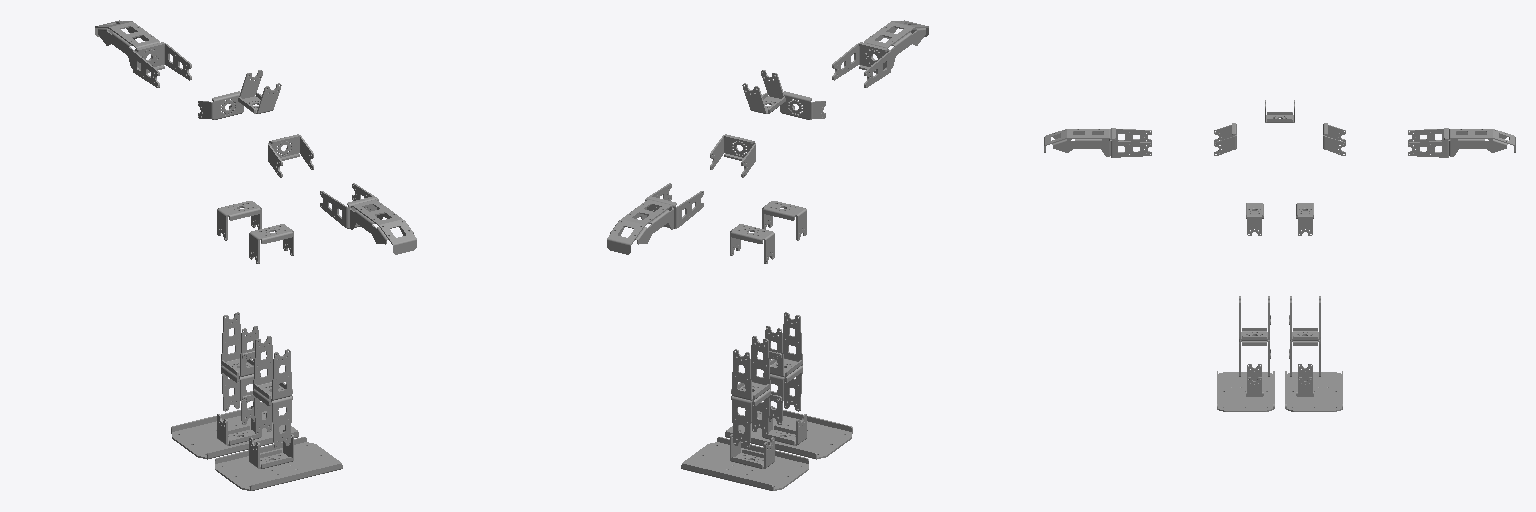
--- Render facts (derived) ---
3 views of the same robot in one strip: view 1: azimuth 30°, elevation 25°; view 2: azimuth 150°, elevation 25°; view 3: azimuth 270°, elevation 25° (orthographic).
Model body_link with 21 links and 20 joints (20 revolute), rooted at body_link, posed all joints at 0.
Links seen in each view (by area): view 1: r_ank_roll_link, r_knee_link, l_ank_roll_link, r_el_link, l_el_link, l_knee_link, head_pan_link, r_sho_pitch_link, r_hip_yaw_link, l_hip_yaw_link, l_sho_pitch_link; view 2: l_ank_roll_link, l_knee_link, r_ank_roll_link, l_el_link, r_el_link, r_knee_link, head_pan_link, l_sho_pitch_link, l_hip_yaw_link, r_hip_yaw_link, r_sho_pitch_link; view 3: l_ank_roll_link, r_ank_roll_link, l_el_link, r_el_link, l_knee_link, r_knee_link, l_sho_pitch_link, r_sho_pitch_link.
Link boxes in pixels (bbox=[...]): r_ank_roll_link: bbox=[215, 429, 342, 490]; r_knee_link: bbox=[253, 336, 292, 448]; l_ank_roll_link: bbox=[171, 406, 298, 459]; r_el_link: bbox=[320, 183, 416, 254]; l_el_link: bbox=[95, 20, 191, 87]; l_knee_link: bbox=[221, 312, 260, 424]; head_pan_link: bbox=[238, 70, 281, 113]; r_sho_pitch_link: bbox=[268, 134, 313, 177]; r_hip_yaw_link: bbox=[249, 224, 293, 263]; l_hip_yaw_link: bbox=[217, 201, 261, 240]; l_sho_pitch_link: bbox=[198, 91, 243, 119]; l_ank_roll_link: bbox=[681, 429, 808, 490]; l_knee_link: bbox=[731, 336, 770, 448]; r_ank_roll_link: bbox=[725, 406, 852, 459]; l_el_link: bbox=[607, 183, 703, 254]; r_el_link: bbox=[832, 20, 928, 87]; r_knee_link: bbox=[763, 312, 802, 424]; head_pan_link: bbox=[742, 70, 785, 113]; l_sho_pitch_link: bbox=[710, 134, 755, 177]; l_hip_yaw_link: bbox=[730, 224, 774, 263]; r_hip_yaw_link: bbox=[762, 201, 806, 240]; r_sho_pitch_link: bbox=[780, 91, 825, 119]; l_ank_roll_link: bbox=[1285, 364, 1342, 411]; r_ank_roll_link: bbox=[1217, 364, 1274, 411]; l_el_link: bbox=[1408, 128, 1515, 157]; r_el_link: bbox=[1044, 128, 1151, 157]; l_knee_link: bbox=[1289, 296, 1320, 376]; r_knee_link: bbox=[1239, 296, 1270, 376]; l_sho_pitch_link: bbox=[1323, 123, 1345, 155]; r_sho_pitch_link: bbox=[1214, 123, 1236, 155].
Bounding box of the posed robot: 0.127 × 0.6508 × 0.4467 m (x, y, z).
11 mesh visuals loaded from 21 distinct referenced files (11 Collada DAE); not drawn: 10 (reference not matched to a file when rendering).

The robot description file, URDF, robot "body_link":
<?xml version="1.0"?>
<robot name="body_link"
       xmlns:xi="http://www.w3.org/2001/XInclude">
  <link name="body_link">
    <visual>
      <origin xyz="0 0 0" rpy="0 -0 0"/>
      <geometry>
        <mesh filename="package://hrpsys_ros_bridge_robotis/models/OP3_meshes/body_link_mesh.dae" scale="1 1 1" />
      </geometry>
    </visual>
    <collision>
      <origin xyz="0 0 0" rpy="0 -0 0"/>
      <geometry>
        <mesh filename="package://hrpsys_ros_bridge_robotis/models/OP3_meshes/body_link_mesh.dae" scale="1 1 1" />
      </geometry>
    </collision>
    <inertial>
      <mass value="1.34928" />
      <origin xyz="-0.01501 0.00013 0.06582" rpy="0 -0 0"/>
      <inertia ixx="0.00340499" ixy="5.72e-06" ixz="-4.256e-05" iyy="0.00296939" iyz="-5.9e-07" izz="0.00317331"/>
    </inertial>
  </link>
  <gazebo reference="body_link">
    <mu1>0.9</mu1>
    <mu2>0.9</mu2>
  </gazebo>
  <link name="head_pan_link">
    <visual>
      <origin xyz="-0.001 0 0.1365" rpy="0 -0 0"/>
      <geometry>
        <mesh filename="package://hrpsys_ros_bridge_robotis/models/OP3_meshes/head_pan_link_mesh.dae" scale="1 1 1" />
      </geometry>
    </visual>
    <collision>
      <origin xyz="-0.001 0 0.1365" rpy="0 -0 0"/>
      <geometry>
        <mesh filename="package://hrpsys_ros_bridge_robotis/models/OP3_meshes/head_pan_link_mesh.dae" scale="1 1 1" />
      </geometry>
    </collision>
    <inertial>
      <mass value="0.01176" />
      <origin xyz="0.00233 0 0.00823" rpy="0 -0 0"/>
      <inertia ixx="3.97e-06" ixy="-2.48613e-22" ixz="-3.1e-07" iyy="1.65e-06" iyz="-3.95602e-22" izz="3.87e-06"/>
    </inertial>
  </link>
  <gazebo reference="head_pan_link">
    <mu1>0.9</mu1>
    <mu2>0.9</mu2>
  </gazebo>
  <link name="head_tilt_link">
    <visual>
      <origin xyz="0.01 0.019 0.0285" rpy="0 -0 0"/>
      <geometry>
        <mesh filename="package://hrpsys_ros_bridge_robotis/models/OP3_meshes/head_tilt_link_mesh.dae" scale="1 1 1" />
      </geometry>
    </visual>
    <collision>
      <origin xyz="0.01 0.019 0.0285" rpy="0 -0 0"/>
      <geometry>
        <mesh filename="package://hrpsys_ros_bridge_robotis/models/OP3_meshes/head_tilt_link_mesh.dae" scale="1 1 1" />
      </geometry>
    </collision>
    <inertial>
      <mass value="0.13631" />
      <origin xyz="0.0023 -0.01863 0.0277" rpy="0 -0 0"/>
      <inertia ixx="0.00010612" ixy="1.1e-07" ixz="-9.1e-06" iyy="8.721e-05" iyz="8.4e-07" izz="4.529e-05"/>
    </inertial>
  </link>
  <gazebo reference="head_tilt_link">
    <mu1>0.9</mu1>
    <mu2>0.9</mu2>
  </gazebo>
  <link name="l_hip_yaw_link">
    <visual>
      <origin xyz="0 0.035 0" rpy="0 -0 0"/>
      <geometry>
        <mesh filename="package://hrpsys_ros_bridge_robotis/models/OP3_meshes/l_hip_yaw_link_mesh.dae" scale="1 1 1" />
      </geometry>
    </visual>
    <collision>
      <origin xyz="0 0.035 0" rpy="0 -0 0"/>
      <geometry>
        <mesh filename="package://hrpsys_ros_bridge_robotis/models/OP3_meshes/l_hip_yaw_link_mesh.dae" scale="1 1 1" />
      </geometry>
    </collision>
    <inertial>
      <mass value="0.01181" />
      <origin xyz="-0.00157 0 -0.00774" rpy="0 -0 0"/>
      <inertia ixx="1.51e-06" ixy="1.83677e-21" ixz="1e-08" iyy="4.3e-06" iyz="3.80853e-24" izz="4.12e-06"/>
    </inertial>
  </link>
  <gazebo reference="l_hip_yaw_link">
    <mu1>0.9</mu1>
    <mu2>0.9</mu2>
  </gazebo>
  <link name="l_hip_roll_link">
    <visual>
      <origin xyz="-0.024 2.77556e-17 -0.0285" rpy="0 -0 0"/>
      <geometry>
        <mesh filename="package://hrpsys_ros_bridge_robotis/models/OP3_meshes/l_hip_roll_link_mesh.dae" scale="1 1 1" />
      </geometry>
    </visual>
    <collision>
      <origin xyz="-0.024 2.77556e-17 -0.0285" rpy="0 -0 0"/>
      <geometry>
        <mesh filename="package://hrpsys_ros_bridge_robotis/models/OP3_meshes/l_hip_roll_link_mesh.dae" scale="1 1 1" />
      </geometry>
    </collision>
    <inertial>
      <mass value="0.17886" />
      <origin xyz="0.00388 0.00028 -0.01214" rpy="0 -0 0"/>
      <inertia ixx="4.661e-05" ixy="-1.01e-06" ixz="-1.31e-06" iyy="0.00012523" iyz="-6e-08" izz="0.00010857"/>
    </inertial>
  </link>
  <gazebo reference="l_hip_roll_link">
    <mu1>0.9</mu1>
    <mu2>0.9</mu2>
  </gazebo>
  <link name="l_hip_pitch_link">
    <visual>
      <origin xyz="0.0241 0.019 8.32667e-17" rpy="0 -0 0"/>
      <geometry>
        <mesh filename="package://hrpsys_ros_bridge_robotis/models/OP3_meshes/l_hip_pitch_link_mesh.dae" scale="1 1 1" />
      </geometry>
    </visual>
    <collision>
      <origin xyz="0.0241 0.019 8.32667e-17" rpy="0 -0 0"/>
      <geometry>
        <mesh filename="package://hrpsys_ros_bridge_robotis/models/OP3_meshes/l_hip_pitch_link_mesh.dae" scale="1 1 1" />
      </geometry>
    </collision>
    <inertial>
      <mass value="0.11543" />
      <origin xyz="0.00059 -0.01901 -0.08408" rpy="0 -0 0"/>
      <inertia ixx="0.00010499" ixy="-1e-08" ixz="-7.1e-07" iyy="9.613e-05" iyz="3.53e-06" izz="2.493e-05"/>
    </inertial>
  </link>
  <gazebo reference="l_hip_pitch_link">
    <mu1>0.9</mu1>
    <mu2>0.9</mu2>
  </gazebo>
  <link name="l_knee_link">
    <visual>
      <origin xyz="-1.35525e-20 -6.93889e-16 -0.11015" rpy="0 -0 0"/>
      <geometry>
        <mesh filename="package://hrpsys_ros_bridge_robotis/models/OP3_meshes/l_knee_link_mesh.dae" scale="1 1 1" />
      </geometry>
    </visual>
    <collision>
      <origin xyz="-1.35525e-20 -6.93889e-16 -0.11015" rpy="0 -0 0"/>
      <geometry>
        <mesh filename="package://hrpsys_ros_bridge_robotis/models/OP3_meshes/l_knee_link_mesh.dae" scale="1 1 1" />
      </geometry>
    </collision>
    <inertial>
      <mass value="0.04015" />
      <origin xyz="0 -0.02151 -0.055" rpy="0 -0 0"/>
      <inertia ixx="3.715e-05" ixy="0" ixz="0" iyy="2.751e-05" iyz="0" izz="1.511e-05"/>
    </inertial>
  </link>
  <gazebo reference="l_knee_link">
    <mu1>0.9</mu1>
    <mu2>0.9</mu2>
  </gazebo>
  <link name="l_ank_pitch_link">
    <visual>
      <origin xyz="-7.72494e-19 -4.23273e-16 -0.11" rpy="0 -0 0"/>
      <geometry>
        <mesh filename="package://hrpsys_ros_bridge_robotis/models/OP3_meshes/l_ank_pitch_link_mesh.dae" scale="1 1 1" />
      </geometry>
    </visual>
    <collision>
      <origin xyz="-7.72494e-19 -4.23273e-16 -0.11" rpy="0 -0 0"/>
      <geometry>
        <mesh filename="package://hrpsys_ros_bridge_robotis/models/OP3_meshes/l_ank_pitch_link_mesh.dae" scale="1 1 1" />
      </geometry>
    </collision>
    <inertial>
      <mass value="0.17886" />
      <origin xyz="-0.02022 -0.01872 0.01214" rpy="0 -0 0"/>
      <inertia ixx="4.661e-05" ixy="-1.01e-06" ixz="1.31e-06" iyy="0.00012523" iyz="6e-08" izz="0.00010857"/>
    </inertial>
  </link>
  <gazebo reference="l_ank_pitch_link">
    <mu1>0.9</mu1>
    <mu2>0.9</mu2>
  </gazebo>
  <link name="l_ank_roll_link">
    <visual>
      <origin xyz="-0.0241 -0.019 -2.77556e-17" rpy="0 -0 0"/>
      <geometry>
        <mesh filename="package://hrpsys_ros_bridge_robotis/models/OP3_meshes/l_ank_roll_link_mesh.dae" scale="1 1 1" />
      </geometry>
    </visual>
    <collision>
      <origin xyz="-0.0241 -0.019 -2.77556e-17" rpy="0 -0 0"/>
      <geometry>
        <mesh filename="package://hrpsys_ros_bridge_robotis/models/OP3_meshes/l_ank_roll_link_mesh.dae" scale="1 1 1" />
      </geometry>
    </collision>
    <inertial>
      <mass value="0.06934" />
      <origin xyz="0.02373 0.01037 -0.0276" rpy="0 -0 0"/>
      <inertia ixx="4.034e-05" ixy="-1.9e-07" ixz="1.2e-07" iyy="7.874e-05" iyz="1.01e-06" izz="0.00011579"/>
    </inertial>
  </link>
  <gazebo reference="l_ank_roll_link">
    <mu1>0.9</mu1>
    <mu2>0.9</mu2>
  </gazebo>
  <link name="l_sho_pitch_link">
    <visual>
      <origin xyz="-0.001 0.06 0.111" rpy="0 -0 0"/>
      <geometry>
        <mesh filename="package://hrpsys_ros_bridge_robotis/models/OP3_meshes/l_sho_pitch_link_mesh.dae" scale="1 1 1" />
      </geometry>
    </visual>
    <collision>
      <origin xyz="-0.001 0.06 0.111" rpy="0 -0 0"/>
      <geometry>
        <mesh filename="package://hrpsys_ros_bridge_robotis/models/OP3_meshes/l_sho_pitch_link_mesh.dae" scale="1 1 1" />
      </geometry>
    </collision>
    <inertial>
      <mass value="0.01176" />
      <origin xyz="0 0.00823 -0.00233" rpy="0 -0 0"/>
      <inertia ixx="1.65e-06" ixy="-3.65567e-22" ixz="-4.79164e-22" iyy="3.87e-06" iyz="3.1e-07" izz="3.97e-06"/>
    </inertial>
  </link>
  <gazebo reference="l_sho_pitch_link">
    <mu1>0.9</mu1>
    <mu2>0.9</mu2>
  </gazebo>
  <link name="l_sho_roll_link">
    <visual>
      <origin xyz="0.019 0.0285 -0.01" rpy="0 -0 0"/>
      <geometry>
        <mesh filename="package://hrpsys_ros_bridge_robotis/models/OP3_meshes/l_sho_roll_link_mesh.dae" scale="1 1 1" />
      </geometry>
    </visual>
    <collision>
      <origin xyz="0.019 0.0285 -0.01" rpy="0 -0 0"/>
      <geometry>
        <mesh filename="package://hrpsys_ros_bridge_robotis/models/OP3_meshes/l_sho_roll_link_mesh.dae" scale="1 1 1" />
      </geometry>
    </collision>
    <inertial>
      <mass value="0.17758" />
      <origin xyz="-0.01844 0.04514 0.00028" rpy="0 -0 0"/>
      <inertia ixx="0.00022804" ixy="-1e-08" ixz="3e-08" iyy="3.042e-05" iyz="5.9e-07" izz="0.00023474"/>
    </inertial>
  </link>
  <gazebo reference="l_sho_roll_link">
    <mu1>0.9</mu1>
    <mu2>0.9</mu2>
  </gazebo>
  <link name="l_el_link">
    <visual>
      <origin xyz="-5.89806e-17 0.0904 -0.0001" rpy="0 -0 0"/>
      <geometry>
        <mesh filename="package://hrpsys_ros_bridge_robotis/models/OP3_meshes/l_el_link_mesh.dae" scale="1 1 1" />
      </geometry>
    </visual>
    <collision>
      <origin xyz="-5.89806e-17 0.0904 -0.0001" rpy="0 -0 0"/>
      <geometry>
        <mesh filename="package://hrpsys_ros_bridge_robotis/models/OP3_meshes/l_el_link_mesh.dae" scale="1 1 1" />
      </geometry>
    </collision>
    <inertial>
      <mass value="0.04127" />
      <origin xyz="-0.019 0.07033 0.0038" rpy="0 -0 0"/>
      <inertia ixx="6.196e-05" ixy="9.80813e-22" ixz="-2.97588e-21" iyy="1.231e-05" iyz="-3.72e-06" izz="6.854e-05"/>
    </inertial>
  </link>
  <gazebo reference="l_el_link">
    <mu1>0.9</mu1>
    <mu2>0.9</mu2>
  </gazebo>
  <link name="r_hip_yaw_link">
    <visual>
      <origin xyz="0 -0.035 0" rpy="0 -0 0"/>
      <geometry>
        <mesh filename="package://hrpsys_ros_bridge_robotis/models/OP3_meshes/r_hip_yaw_link_mesh.dae" scale="1 1 1" />
      </geometry>
    </visual>
    <collision>
      <origin xyz="0 -0.035 0" rpy="0 -0 0"/>
      <geometry>
        <mesh filename="package://hrpsys_ros_bridge_robotis/models/OP3_meshes/r_hip_yaw_link_mesh.dae" scale="1 1 1" />
      </geometry>
    </collision>
    <inertial>
      <mass value="0.01181" />
      <origin xyz="-0.00157 0 -0.00774" rpy="0 -0 0"/>
      <inertia ixx="1.51e-06" ixy="1.83677e-21" ixz="1e-08" iyy="4.3e-06" iyz="3.80853e-24" izz="4.12e-06"/>
    </inertial>
  </link>
  <gazebo reference="r_hip_yaw_link">
    <mu1>0.9</mu1>
    <mu2>0.9</mu2>
  </gazebo>
  <link name="r_hip_roll_link">
    <visual>
      <origin xyz="-0.024 -2.77556e-17 -0.0285" rpy="0 -0 0"/>
      <geometry>
        <mesh filename="package://hrpsys_ros_bridge_robotis/models/OP3_meshes/r_hip_roll_link_mesh.dae" scale="1 1 1" />
      </geometry>
    </visual>
    <collision>
      <origin xyz="-0.024 -2.77556e-17 -0.0285" rpy="0 -0 0"/>
      <geometry>
        <mesh filename="package://hrpsys_ros_bridge_robotis/models/OP3_meshes/r_hip_roll_link_mesh.dae" scale="1 1 1" />
      </geometry>
    </collision>
    <inertial>
      <mass value="0.17886" />
      <origin xyz="0.00388 -0.00028 -0.01214" rpy="0 -0 0"/>
      <inertia ixx="4.661e-05" ixy="1.01e-06" ixz="-1.31e-06" iyy="0.00012523" iyz="6e-08" izz="0.00010857"/>
    </inertial>
  </link>
  <gazebo reference="r_hip_roll_link">
    <mu1>0.9</mu1>
    <mu2>0.9</mu2>
  </gazebo>
  <link name="r_hip_pitch_link">
    <visual>
      <origin xyz="0.0241 -0.019 -2.77556e-17" rpy="0 -0 0"/>
      <geometry>
        <mesh filename="package://hrpsys_ros_bridge_robotis/models/OP3_meshes/r_hip_pitch_link_mesh.dae" scale="1 1 1" />
      </geometry>
    </visual>
    <collision>
      <origin xyz="0.0241 -0.019 -2.77556e-17" rpy="0 -0 0"/>
      <geometry>
        <mesh filename="package://hrpsys_ros_bridge_robotis/models/OP3_meshes/r_hip_pitch_link_mesh.dae" scale="1 1 1" />
      </geometry>
    </collision>
    <inertial>
      <mass value="0.11543" />
      <origin xyz="0.00059 0.01901 -0.08408" rpy="0 -0 0"/>
      <inertia ixx="0.00010499" ixy="1e-08" ixz="-7.1e-07" iyy="9.613e-05" iyz="-3.53e-06" izz="2.493e-05"/>
    </inertial>
  </link>
  <gazebo reference="r_hip_pitch_link">
    <mu1>0.9</mu1>
    <mu2>0.9</mu2>
  </gazebo>
  <link name="r_knee_link">
    <visual>
      <origin xyz="-1.35525e-20 7.42462e-16 -0.11015" rpy="0 -0 0"/>
      <geometry>
        <mesh filename="package://hrpsys_ros_bridge_robotis/models/OP3_meshes/r_knee_link_mesh.dae" scale="1 1 1" />
      </geometry>
    </visual>
    <collision>
      <origin xyz="-1.35525e-20 7.42462e-16 -0.11015" rpy="0 -0 0"/>
      <geometry>
        <mesh filename="package://hrpsys_ros_bridge_robotis/models/OP3_meshes/r_knee_link_mesh.dae" scale="1 1 1" />
      </geometry>
    </collision>
    <inertial>
      <mass value="0.04015" />
      <origin xyz="0 0.02151 -0.055" rpy="0 -0 0"/>
      <inertia ixx="3.715e-05" ixy="0" ixz="0" iyy="2.751e-05" iyz="0" izz="1.511e-05"/>
    </inertial>
  </link>
  <gazebo reference="r_knee_link">
    <mu1>0.9</mu1>
    <mu2>0.9</mu2>
  </gazebo>
  <link name="r_ank_pitch_link">
    <visual>
      <origin xyz="-7.72494e-19 4.23273e-16 -0.11" rpy="0 -0 0"/>
      <geometry>
        <mesh filename="package://hrpsys_ros_bridge_robotis/models/OP3_meshes/r_ank_pitch_link_mesh.dae" scale="1 1 1" />
      </geometry>
    </visual>
    <collision>
      <origin xyz="-7.72494e-19 4.23273e-16 -0.11" rpy="0 -0 0"/>
      <geometry>
        <mesh filename="package://hrpsys_ros_bridge_robotis/models/OP3_meshes/r_ank_pitch_link_mesh.dae" scale="1 1 1" />
      </geometry>
    </collision>
    <inertial>
      <mass value="0.17886" />
      <origin xyz="-0.02022 0.01872 0.01214" rpy="0 -0 0"/>
      <inertia ixx="4.661e-05" ixy="1.01e-06" ixz="1.31e-06" iyy="0.00012523" iyz="-6e-08" izz="0.00010857"/>
    </inertial>
  </link>
  <gazebo reference="r_ank_pitch_link">
    <mu1>0.9</mu1>
    <mu2>0.9</mu2>
  </gazebo>
  <link name="r_ank_roll_link">
    <visual>
      <origin xyz="-0.0241 0.019 -2.77556e-17" rpy="0 -0 0"/>
      <geometry>
        <mesh filename="package://hrpsys_ros_bridge_robotis/models/OP3_meshes/r_ank_roll_link_mesh.dae" scale="1 1 1" />
      </geometry>
    </visual>
    <collision>
      <origin xyz="-0.0241 0.019 -2.77556e-17" rpy="0 -0 0"/>
      <geometry>
        <mesh filename="package://hrpsys_ros_bridge_robotis/models/OP3_meshes/r_ank_roll_link_mesh.dae" scale="1 1 1" />
      </geometry>
    </collision>
    <inertial>
      <mass value="0.06934" />
      <origin xyz="0.02373 -0.01037 -0.0276" rpy="0 -0 0"/>
      <inertia ixx="4.034e-05" ixy="1.9e-07" ixz="1.2e-07" iyy="7.874e-05" iyz="-1.01e-06" izz="0.00011579"/>
    </inertial>
  </link>
  <gazebo reference="r_ank_roll_link">
    <mu1>0.9</mu1>
    <mu2>0.9</mu2>
  </gazebo>
  <link name="r_sho_pitch_link">
    <visual>
      <origin xyz="-0.001 -0.06 0.111" rpy="0 -0 0"/>
      <geometry>
        <mesh filename="package://hrpsys_ros_bridge_robotis/models/OP3_meshes/r_sho_pitch_link_mesh.dae" scale="1 1 1" />
      </geometry>
    </visual>
    <collision>
      <origin xyz="-0.001 -0.06 0.111" rpy="0 -0 0"/>
      <geometry>
        <mesh filename="package://hrpsys_ros_bridge_robotis/models/OP3_meshes/r_sho_pitch_link_mesh.dae" scale="1 1 1" />
      </geometry>
    </collision>
    <inertial>
      <mass value="0.01176" />
      <origin xyz="0 -0.00823 -0.00233" rpy="0 -0 0"/>
      <inertia ixx="1.65e-06" ixy="3.65567e-22" ixz="-4.79164e-22" iyy="3.87e-06" iyz="-3.1e-07" izz="3.97e-06"/>
    </inertial>
  </link>
  <gazebo reference="r_sho_pitch_link">
    <mu1>0.9</mu1>
    <mu2>0.9</mu2>
  </gazebo>
  <link name="r_sho_roll_link">
    <visual>
      <origin xyz="0.019 -0.0285 -0.01" rpy="0 -0 0"/>
      <geometry>
        <mesh filename="package://hrpsys_ros_bridge_robotis/models/OP3_meshes/r_sho_roll_link_mesh.dae" scale="1 1 1" />
      </geometry>
    </visual>
    <collision>
      <origin xyz="0.019 -0.0285 -0.01" rpy="0 -0 0"/>
      <geometry>
        <mesh filename="package://hrpsys_ros_bridge_robotis/models/OP3_meshes/r_sho_roll_link_mesh.dae" scale="1 1 1" />
      </geometry>
    </collision>
    <inertial>
      <mass value="0.17758" />
      <origin xyz="-0.01844 -0.04514 0.00028" rpy="0 -0 0"/>
      <inertia ixx="0.00022804" ixy="1e-08" ixz="3e-08" iyy="3.042e-05" iyz="-5.9e-07" izz="0.00023474"/>
    </inertial>
  </link>
  <gazebo reference="r_sho_roll_link">
    <mu1>0.9</mu1>
    <mu2>0.9</mu2>
  </gazebo>
  <link name="r_el_link">
    <visual>
      <origin xyz="-5.89806e-17 -0.0904 -0.0001" rpy="0 -0 0"/>
      <geometry>
        <mesh filename="package://hrpsys_ros_bridge_robotis/models/OP3_meshes/r_el_link_mesh.dae" scale="1 1 1" />
      </geometry>
    </visual>
    <collision>
      <origin xyz="-5.89806e-17 -0.0904 -0.0001" rpy="0 -0 0"/>
      <geometry>
        <mesh filename="package://hrpsys_ros_bridge_robotis/models/OP3_meshes/r_el_link_mesh.dae" scale="1 1 1" />
      </geometry>
    </collision>
    <inertial>
      <mass value="0.04127" />
      <origin xyz="-0.019 -0.07033 0.0038" rpy="0 -0 0"/>
      <inertia ixx="6.196e-05" ixy="-9.80813e-22" ixz="-2.97588e-21" iyy="1.231e-05" iyz="3.72e-06" izz="6.854e-05"/>
    </inertial>
  </link>
  <gazebo reference="r_el_link">
    <mu1>0.9</mu1>
    <mu2>0.9</mu2>
  </gazebo>
  <joint name="head_pan" type="revolute">
    <parent link="body_link"/>
    <child  link="head_pan_link"/>
    <origin xyz="-0.001 0 0.1365" rpy="0 -0 0 "/>
    <axis   xyz="0 0 1"/>
    <limit lower="-2.82743" upper="2.82743" effort="1000" velocity="100" />
    <dynamics damping="0.2" friction="0" />
  </joint>
  <transmission type="pr2_mechanism_model/SimpleTransmission" name="head_pan_trans" >
    <actuator name="head_pan_motor" />
    <joint name="head_pan" />
    <mechanicalReduction>1</mechanicalReduction>
  </transmission>
  <gazebo reference="head_pan">
    <cfmDamping>0.4</cfmDamping>
  </gazebo>
  <joint name="head_tilt" type="revolute">
    <parent link="head_pan_link"/>
    <child  link="head_tilt_link"/>
    <origin xyz="0.01 0.019 0.0285" rpy="0 -0 0 "/>
    <axis   xyz="0 -1 0"/>
    <limit lower="-2.82743" upper="2.82743" effort="1000" velocity="100" />
    <dynamics damping="0.2" friction="0" />
  </joint>
  <transmission type="pr2_mechanism_model/SimpleTransmission" name="head_tilt_trans" >
    <actuator name="head_tilt_motor" />
    <joint name="head_tilt" />
    <mechanicalReduction>1</mechanicalReduction>
  </transmission>
  <gazebo reference="head_tilt">
    <cfmDamping>0.4</cfmDamping>
  </gazebo>
  <joint name="l_hip_yaw" type="revolute">
    <parent link="body_link"/>
    <child  link="l_hip_yaw_link"/>
    <origin xyz="0 0.035 0" rpy="0 -0 0 "/>
    <axis   xyz="0 0 -1"/>
    <limit lower="-2.82743" upper="2.82743" effort="1000" velocity="100" />
    <dynamics damping="0.2" friction="0" />
  </joint>
  <transmission type="pr2_mechanism_model/SimpleTransmission" name="l_hip_yaw_trans" >
    <actuator name="l_hip_yaw_motor" />
    <joint name="l_hip_yaw" />
    <mechanicalReduction>1</mechanicalReduction>
  </transmission>
  <gazebo reference="l_hip_yaw">
    <cfmDamping>0.4</cfmDamping>
  </gazebo>
  <joint name="l_hip_roll" type="revolute">
    <parent link="l_hip_yaw_link"/>
    <child  link="l_hip_roll_link"/>
    <origin xyz="-0.024 2.77556e-17 -0.0285" rpy="0 -0 0 "/>
    <axis   xyz="-1 0 0"/>
    <limit lower="-2.82743" upper="2.82743" effort="1000" velocity="100" />
    <dynamics damping="0.2" friction="0" />
  </joint>
  <transmission type="pr2_mechanism_model/SimpleTransmission" name="l_hip_roll_trans" >
    <actuator name="l_hip_roll_motor" />
    <joint name="l_hip_roll" />
    <mechanicalReduction>1</mechanicalReduction>
  </transmission>
  <gazebo reference="l_hip_roll">
    <cfmDamping>0.4</cfmDamping>
  </gazebo>
  <joint name="l_hip_pitch" type="revolute">
    <parent link="l_hip_roll_link"/>
    <child  link="l_hip_pitch_link"/>
    <origin xyz="0.0241 0.019 8.32667e-17" rpy="0 -0 0 "/>
    <axis   xyz="0 1 0"/>
    <limit lower="-2.82743" upper="2.82743" effort="1000" velocity="100" />
    <dynamics damping="0.2" friction="0" />
  </joint>
  <transmission type="pr2_mechanism_model/SimpleTransmission" name="l_hip_pitch_trans" >
    <actuator name="l_hip_pitch_motor" />
    <joint name="l_hip_pitch" />
    <mechanicalReduction>1</mechanicalReduction>
  </transmission>
  <gazebo reference="l_hip_pitch">
    <cfmDamping>0.4</cfmDamping>
  </gazebo>
  <joint name="l_knee" type="revolute">
    <parent link="l_hip_pitch_link"/>
    <child  link="l_knee_link"/>
    <origin xyz="-1.35525e-20 -6.93889e-16 -0.11015" rpy="0 -0 0 "/>
    <axis   xyz="0 1 0"/>
    <limit lower="-2.82743" upper="2.82743" effort="1000" velocity="100" />
    <dynamics damping="0.2" friction="0" />
  </joint>
  <transmission type="pr2_mechanism_model/SimpleTransmission" name="l_knee_trans" >
    <actuator name="l_knee_motor" />
    <joint name="l_knee" />
    <mechanicalReduction>1</mechanicalReduction>
  </transmission>
  <gazebo reference="l_knee">
    <cfmDamping>0.4</cfmDamping>
  </gazebo>
  <joint name="l_ank_pitch" type="revolute">
    <parent link="l_knee_link"/>
    <child  link="l_ank_pitch_link"/>
    <origin xyz="-7.72494e-19 -4.23273e-16 -0.11" rpy="0 -0 0 "/>
    <axis   xyz="0 -1 0"/>
    <limit lower="-2.82743" upper="2.82743" effort="1000" velocity="100" />
    <dynamics damping="0.2" friction="0" />
  </joint>
  <transmission type="pr2_mechanism_model/SimpleTransmission" name="l_ank_pitch_trans" >
    <actuator name="l_ank_pitch_motor" />
    <joint name="l_ank_pitch" />
    <mechanicalReduction>1</mechanicalReduction>
  </transmission>
  <gazebo reference="l_ank_pitch">
    <cfmDamping>0.4</cfmDamping>
  </gazebo>
  <joint name="l_ank_roll" type="revolute">
    <parent link="l_ank_pitch_link"/>
    <child  link="l_ank_roll_link"/>
    <origin xyz="-0.0241 -0.019 -2.77556e-17" rpy="0 -0 0 "/>
    <axis   xyz="1 0 0"/>
    <limit lower="-2.82743" upper="2.82743" effort="1000" velocity="100" />
    <dynamics damping="0.2" friction="0" />
  </joint>
  <transmission type="pr2_mechanism_model/SimpleTransmission" name="l_ank_roll_trans" >
    <actuator name="l_ank_roll_motor" />
    <joint name="l_ank_roll" />
    <mechanicalReduction>1</mechanicalReduction>
  </transmission>
  <gazebo reference="l_ank_roll">
    <cfmDamping>0.4</cfmDamping>
  </gazebo>
  <joint name="l_sho_pitch" type="revolute">
    <parent link="body_link"/>
    <child  link="l_sho_pitch_link"/>
    <origin xyz="-0.001 0.06 0.111" rpy="0 -0 0 "/>
    <axis   xyz="0 1 0"/>
    <limit lower="-2.82743" upper="2.82743" effort="1000" velocity="100" />
    <dynamics damping="0.2" friction="0" />
  </joint>
  <transmission type="pr2_mechanism_model/SimpleTransmission" name="l_sho_pitch_trans" >
    <actuator name="l_sho_pitch_motor" />
    <joint name="l_sho_pitch" />
    <mechanicalReduction>1</mechanicalReduction>
  </transmission>
  <gazebo reference="l_sho_pitch">
    <cfmDamping>0.4</cfmDamping>
  </gazebo>
  <joint name="l_sho_roll" type="revolute">
    <parent link="l_sho_pitch_link"/>
    <child  link="l_sho_roll_link"/>
    <origin xyz="0.019 0.0285 -0.01" rpy="0 -0 0 "/>
    <axis   xyz="-1 0 0"/>
    <limit lower="-2.82743" upper="2.82743" effort="1000" velocity="100" />
    <dynamics damping="0.2" friction="0" />
  </joint>
  <transmission type="pr2_mechanism_model/SimpleTransmission" name="l_sho_roll_trans" >
    <actuator name="l_sho_roll_motor" />
    <joint name="l_sho_roll" />
    <mechanicalReduction>1</mechanicalReduction>
  </transmission>
  <gazebo reference="l_sho_roll">
    <cfmDamping>0.4</cfmDamping>
  </gazebo>
  <joint name="l_el" type="revolute">
    <parent link="l_sho_roll_link"/>
    <child  link="l_el_link"/>
    <origin xyz="-5.89806e-17 0.0904 -0.0001" rpy="0 -0 0 "/>
    <axis   xyz="1 0 0"/>
    <limit lower="-2.82743" upper="2.82743" effort="1000" velocity="100" />
    <dynamics damping="0.2" friction="0" />
  </joint>
  <transmission type="pr2_mechanism_model/SimpleTransmission" name="l_el_trans" >
    <actuator name="l_el_motor" />
    <joint name="l_el" />
    <mechanicalReduction>1</mechanicalReduction>
  </transmission>
  <gazebo reference="l_el">
    <cfmDamping>0.4</cfmDamping>
  </gazebo>
  <joint name="r_hip_yaw" type="revolute">
    <parent link="body_link"/>
    <child  link="r_hip_yaw_link"/>
    <origin xyz="0 -0.035 0" rpy="0 -0 0 "/>
    <axis   xyz="0 0 -1"/>
    <limit lower="-2.82743" upper="2.82743" effort="1000" velocity="100" />
    <dynamics damping="0.2" friction="0" />
  </joint>
  <transmission type="pr2_mechanism_model/SimpleTransmission" name="r_hip_yaw_trans" >
    <actuator name="r_hip_yaw_motor" />
    <joint name="r_hip_yaw" />
    <mechanicalReduction>1</mechanicalReduction>
  </transmission>
  <gazebo reference="r_hip_yaw">
    <cfmDamping>0.4</cfmDamping>
  </gazebo>
  <joint name="r_hip_roll" type="revolute">
    <parent link="r_hip_yaw_link"/>
    <child  link="r_hip_roll_link"/>
    <origin xyz="-0.024 -2.77556e-17 -0.0285" rpy="0 -0 0 "/>
    <axis   xyz="-1 0 0"/>
    <limit lower="-2.82743" upper="2.82743" effort="1000" velocity="100" />
    <dynamics damping="0.2" friction="0" />
  </joint>
  <transmission type="pr2_mechanism_model/SimpleTransmission" name="r_hip_roll_trans" >
    <actuator name="r_hip_roll_motor" />
    <joint name="r_hip_roll" />
    <mechanicalReduction>1</mechanicalReduction>
  </transmission>
  <gazebo reference="r_hip_roll">
    <cfmDamping>0.4</cfmDamping>
  </gazebo>
  <joint name="r_hip_pitch" type="revolute">
    <parent link="r_hip_roll_link"/>
    <child  link="r_hip_pitch_link"/>
    <origin xyz="0.0241 -0.019 -2.77556e-17" rpy="0 -0 0 "/>
    <axis   xyz="0 -1 0"/>
    <limit lower="-2.82743" upper="2.82743" effort="1000" velocity="100" />
    <dynamics damping="0.2" friction="0" />
  </joint>
  <transmission type="pr2_mechanism_model/SimpleTransmission" name="r_hip_pitch_trans" >
    <actuator name="r_hip_pitch_motor" />
    <joint name="r_hip_pitch" />
    <mechanicalReduction>1</mechanicalReduction>
  </transmission>
  <gazebo reference="r_hip_pitch">
    <cfmDamping>0.4</cfmDamping>
  </gazebo>
  <joint name="r_knee" type="revolute">
    <parent link="r_hip_pitch_link"/>
    <child  link="r_knee_link"/>
    <origin xyz="-1.35525e-20 7.42462e-16 -0.11015" rpy="0 -0 0 "/>
    <axis   xyz="0 -1 0"/>
    <limit lower="-2.82743" upper="2.82743" effort="1000" velocity="100" />
    <dynamics damping="0.2" friction="0" />
  </joint>
  <transmission type="pr2_mechanism_model/SimpleTransmission" name="r_knee_trans" >
    <actuator name="r_knee_motor" />
    <joint name="r_knee" />
    <mechanicalReduction>1</mechanicalReduction>
  </transmission>
  <gazebo reference="r_knee">
    <cfmDamping>0.4</cfmDamping>
  </gazebo>
  <joint name="r_ank_pitch" type="revolute">
    <parent link="r_knee_link"/>
    <child  link="r_ank_pitch_link"/>
    <origin xyz="-7.72494e-19 4.23273e-16 -0.11" rpy="0 -0 0 "/>
    <axis   xyz="0 1 0"/>
    <limit lower="-2.82743" upper="2.82743" effort="1000" velocity="100" />
    <dynamics damping="0.2" friction="0" />
  </joint>
  <transmission type="pr2_mechanism_model/SimpleTransmission" name="r_ank_pitch_trans" >
    <actuator name="r_ank_pitch_motor" />
    <joint name="r_ank_pitch" />
    <mechanicalReduction>1</mechanicalReduction>
  </transmission>
  <gazebo reference="r_ank_pitch">
    <cfmDamping>0.4</cfmDamping>
  </gazebo>
  <joint name="r_ank_roll" type="revolute">
    <parent link="r_ank_pitch_link"/>
    <child  link="r_ank_roll_link"/>
    <origin xyz="-0.0241 0.019 -2.77556e-17" rpy="0 -0 0 "/>
    <axis   xyz="1 0 0"/>
    <limit lower="-2.82743" upper="2.82743" effort="1000" velocity="100" />
    <dynamics damping="0.2" friction="0" />
  </joint>
  <transmission type="pr2_mechanism_model/SimpleTransmission" name="r_ank_roll_trans" >
    <actuator name="r_ank_roll_motor" />
    <joint name="r_ank_roll" />
    <mechanicalReduction>1</mechanicalReduction>
  </transmission>
  <gazebo reference="r_ank_roll">
    <cfmDamping>0.4</cfmDamping>
  </gazebo>
  <joint name="r_sho_pitch" type="revolute">
    <parent link="body_link"/>
    <child  link="r_sho_pitch_link"/>
    <origin xyz="-0.001 -0.06 0.111" rpy="0 -0 0 "/>
    <axis   xyz="0 -1 0"/>
    <limit lower="-2.82743" upper="2.82743" effort="1000" velocity="100" />
    <dynamics damping="0.2" friction="0" />
  </joint>
  <transmission type="pr2_mechanism_model/SimpleTransmission" name="r_sho_pitch_trans" >
    <actuator name="r_sho_pitch_motor" />
    <joint name="r_sho_pitch" />
    <mechanicalReduction>1</mechanicalReduction>
  </transmission>
  <gazebo reference="r_sho_pitch">
    <cfmDamping>0.4</cfmDamping>
  </gazebo>
  <joint name="r_sho_roll" type="revolute">
    <parent link="r_sho_pitch_link"/>
    <child  link="r_sho_roll_link"/>
    <origin xyz="0.019 -0.0285 -0.01" rpy="0 -0 0 "/>
    <axis   xyz="-1 0 0"/>
    <limit lower="-2.82743" upper="2.82743" effort="1000" velocity="100" />
    <dynamics damping="0.2" friction="0" />
  </joint>
  <transmission type="pr2_mechanism_model/SimpleTransmission" name="r_sho_roll_trans" >
    <actuator name="r_sho_roll_motor" />
    <joint name="r_sho_roll" />
    <mechanicalReduction>1</mechanicalReduction>
  </transmission>
  <gazebo reference="r_sho_roll">
    <cfmDamping>0.4</cfmDamping>
  </gazebo>
  <joint name="r_el" type="revolute">
    <parent link="r_sho_roll_link"/>
    <child  link="r_el_link"/>
    <origin xyz="-5.89806e-17 -0.0904 -0.0001" rpy="0 -0 0 "/>
    <axis   xyz="1 0 0"/>
    <limit lower="-2.82743" upper="2.82743" effort="1000" velocity="100" />
    <dynamics damping="0.2" friction="0" />
  </joint>
  <transmission type="pr2_mechanism_model/SimpleTransmission" name="r_el_trans" >
    <actuator name="r_el_motor" />
    <joint name="r_el" />
    <mechanicalReduction>1</mechanicalReduction>
  </transmission>
  <gazebo reference="r_el">
    <cfmDamping>0.4</cfmDamping>
  </gazebo>
</robot>
